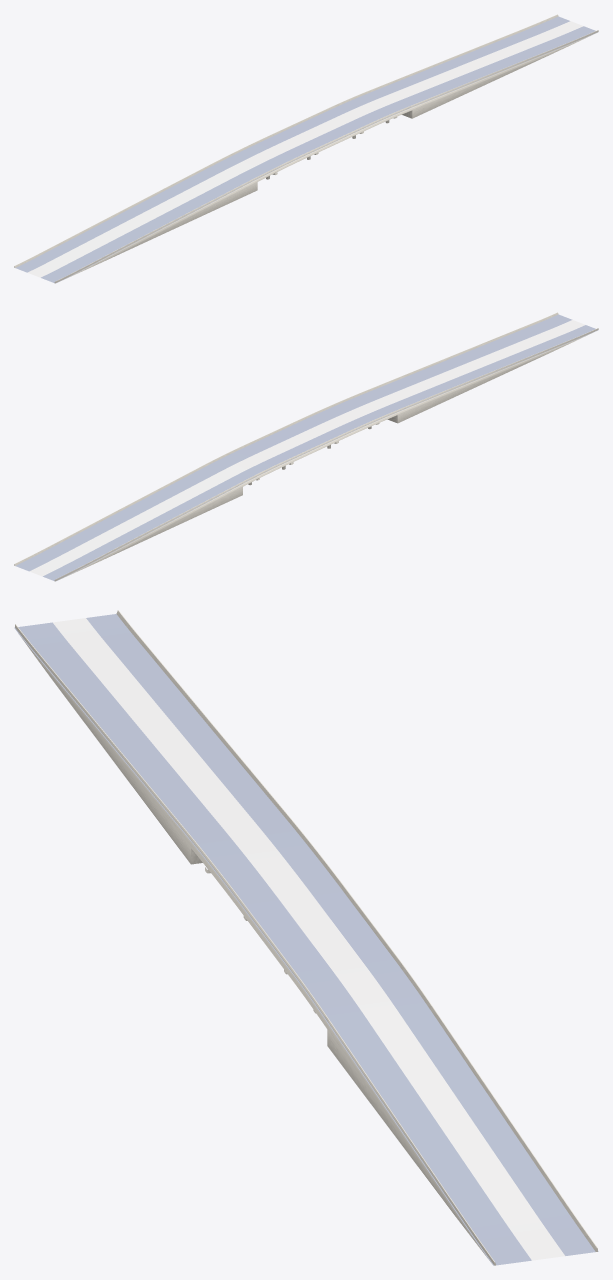
The model's file is Saina-Tole-Bi-edit.glb.
The picture shows the model from 3 angles, top to bottom: view 1: azimuth 30°, elevation 25°; view 2: azimuth 210°, elevation 25°; view 3: azimuth 270°, elevation 25°; orthographic projection. The views are drawn at different scales.
Visible parts, largest first — view 1: group_0, group_2, group_1.001; view 2: group_0, group_2, group_1.001; view 3: group_0, group_2, group_1.001.
Part boxes in pixels (bbox=[...]): group_0: bbox=[15, 16, 598, 283]; group_2: bbox=[27, 21, 583, 277]; group_1.001: bbox=[14, 14, 598, 283]; group_0: bbox=[15, 314, 598, 581]; group_2: bbox=[29, 320, 585, 576]; group_1.001: bbox=[14, 312, 598, 581]; group_0: bbox=[14, 614, 598, 1265]; group_2: bbox=[53, 618, 564, 1260]; group_1.001: bbox=[15, 610, 597, 1265].
Bounding box in the file's own units: 402 × 8 × 152.
3 materials, 1 textured.
